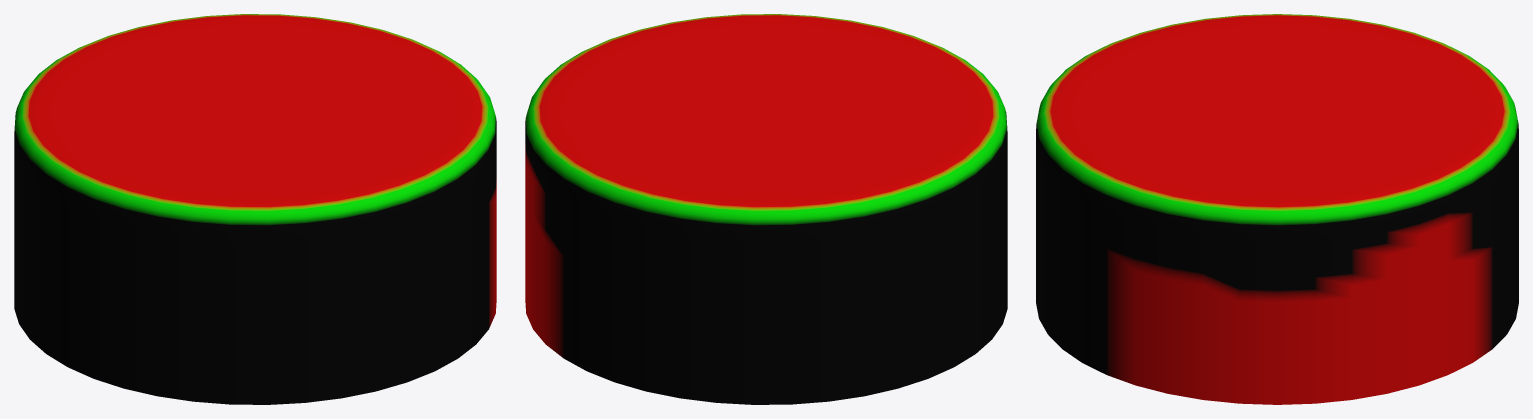
File: fallwater_small.fbx
The picture shows the model from 3 angles, left to right: view 1: azimuth 30°, elevation 25°; view 2: azimuth 150°, elevation 25°; view 3: azimuth 270°, elevation 25°; orthographic projection.
Parts seen in each view (by area): view 1: pCylinder5; view 2: pCylinder5; view 3: pCylinder5.
Boxes of the visible parts, box(x1,y1,x2,y2) form: pCylinder5: box(14, 14, 496, 404); pCylinder5: box(525, 14, 1007, 404); pCylinder5: box(1036, 14, 1518, 404).
Bounding box in the file's own units: 14.76 × 6.48 × 14.76.
